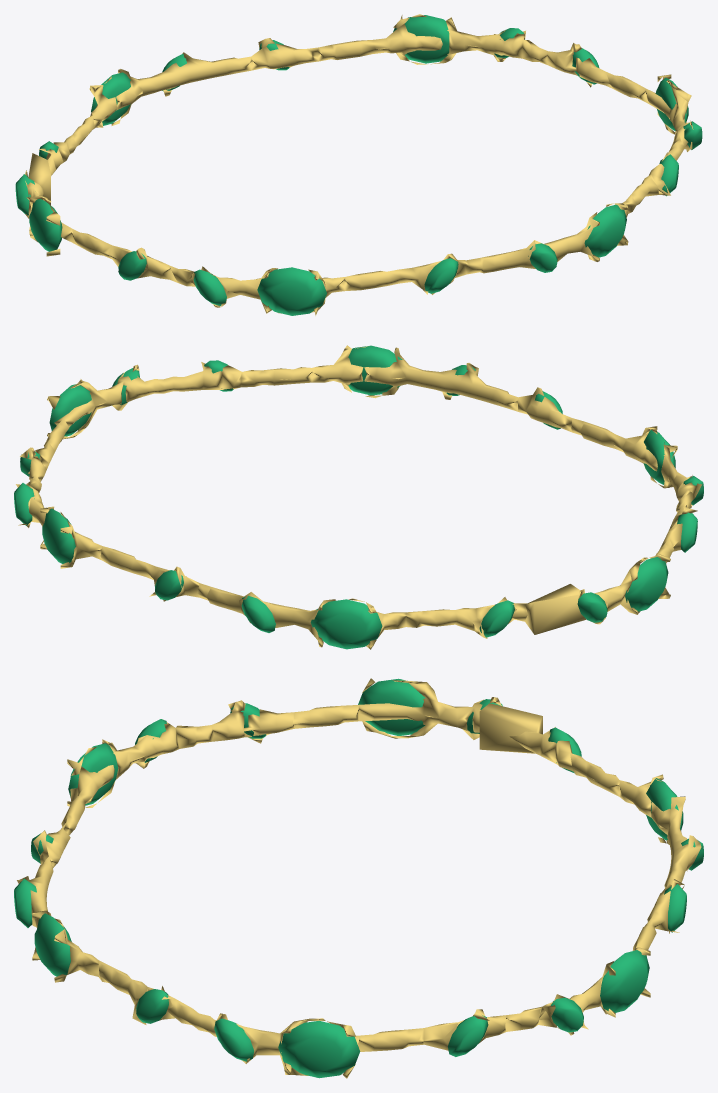
File: emerald-vine-gold-bracelet.glb
The picture shows the model from 3 angles, top to bottom: view 1: azimuth 30°, elevation 25°; view 2: azimuth 150°, elevation 25°; view 3: azimuth 270°, elevation 25°; orthographic projection. The views are drawn at different scales.
Bounding box in the file's own units: 0.0694 × 0.00534 × 0.0571.
